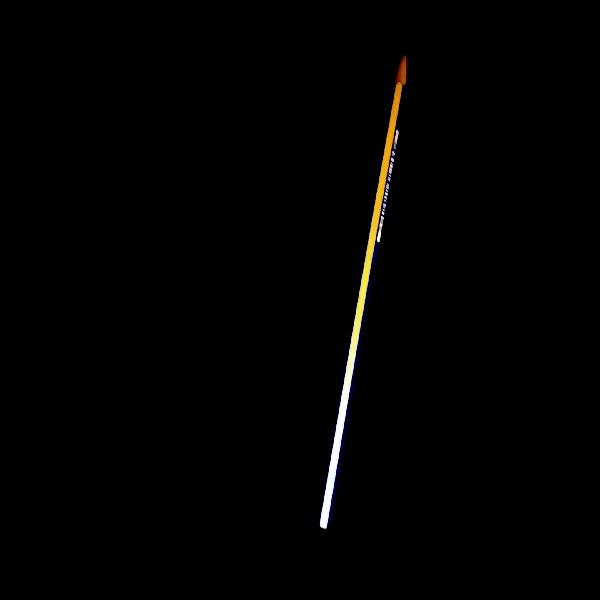pencil: (314, 57, 428, 531)
